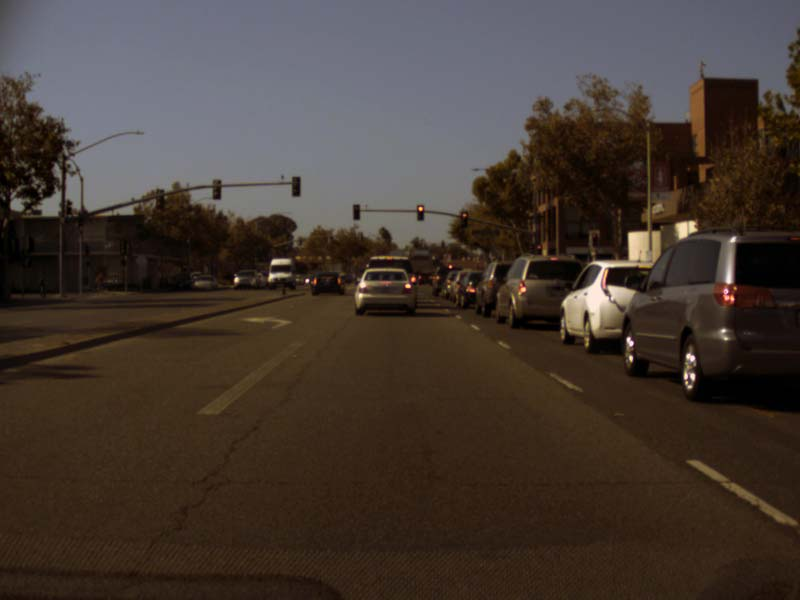Red: (461, 212, 467, 226), (417, 205, 423, 219), (591, 232, 596, 246), (353, 205, 358, 218), (536, 245, 541, 254)
